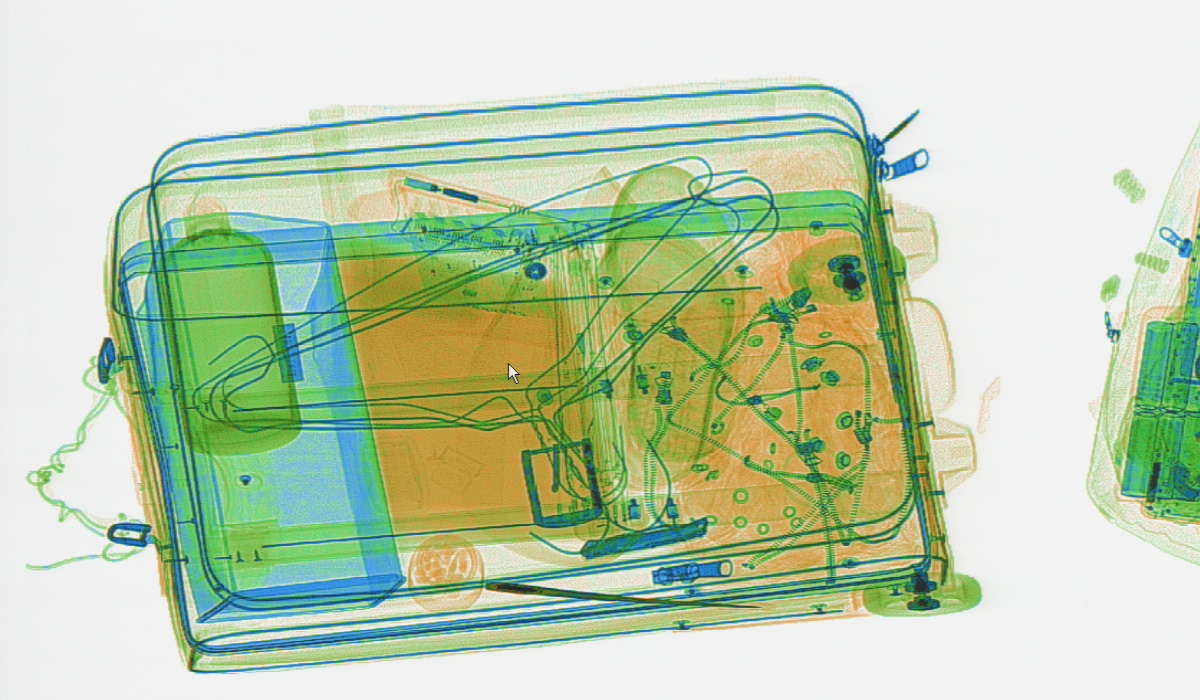knife: (483, 578, 778, 625), (577, 514, 707, 559)
powerbank: (1116, 304, 1196, 505)
